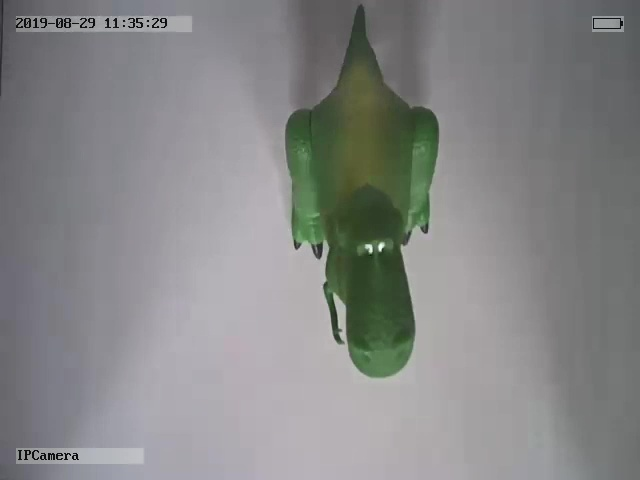rex: (281, 1, 442, 378)
